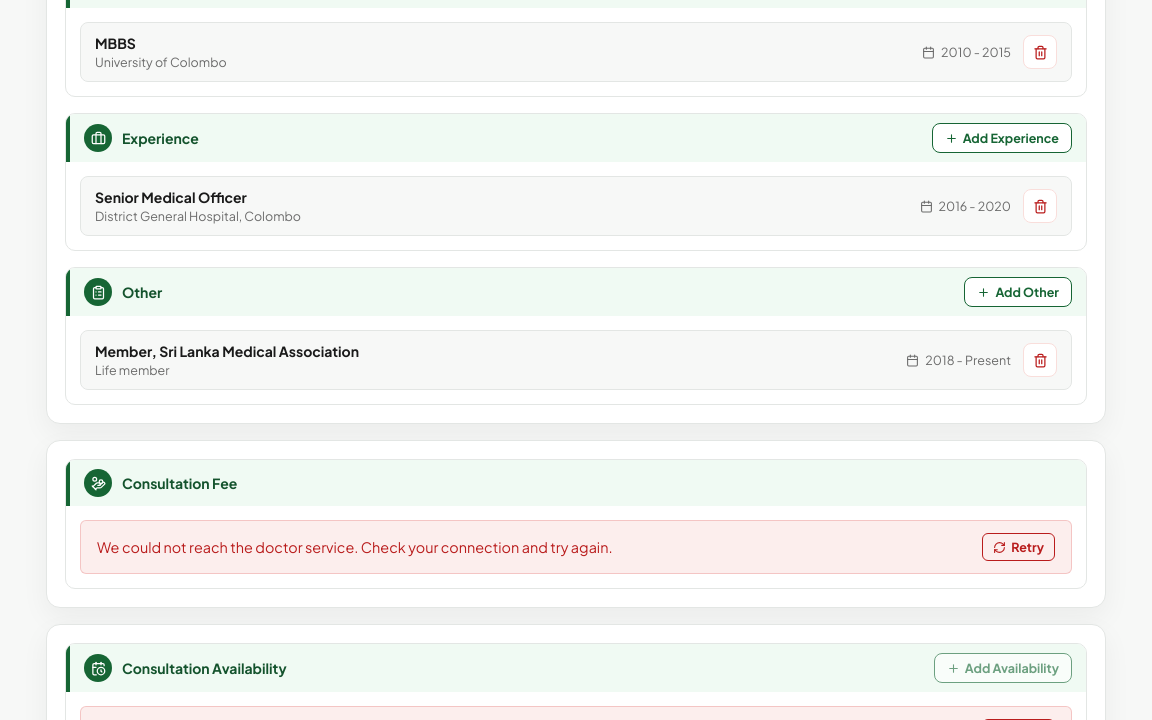
DoctorProfilePage › deletes an Other entry from view mode after confirmation
(page scrolled)
Check: the text "Member, Sri Lanka Medical Association" is shown, box top-left (95, 342), bottom-right (359, 360)
Click the button named "Remove Other 1" at (1040, 360), box top-left (1023, 343), bottom-right (1057, 377)
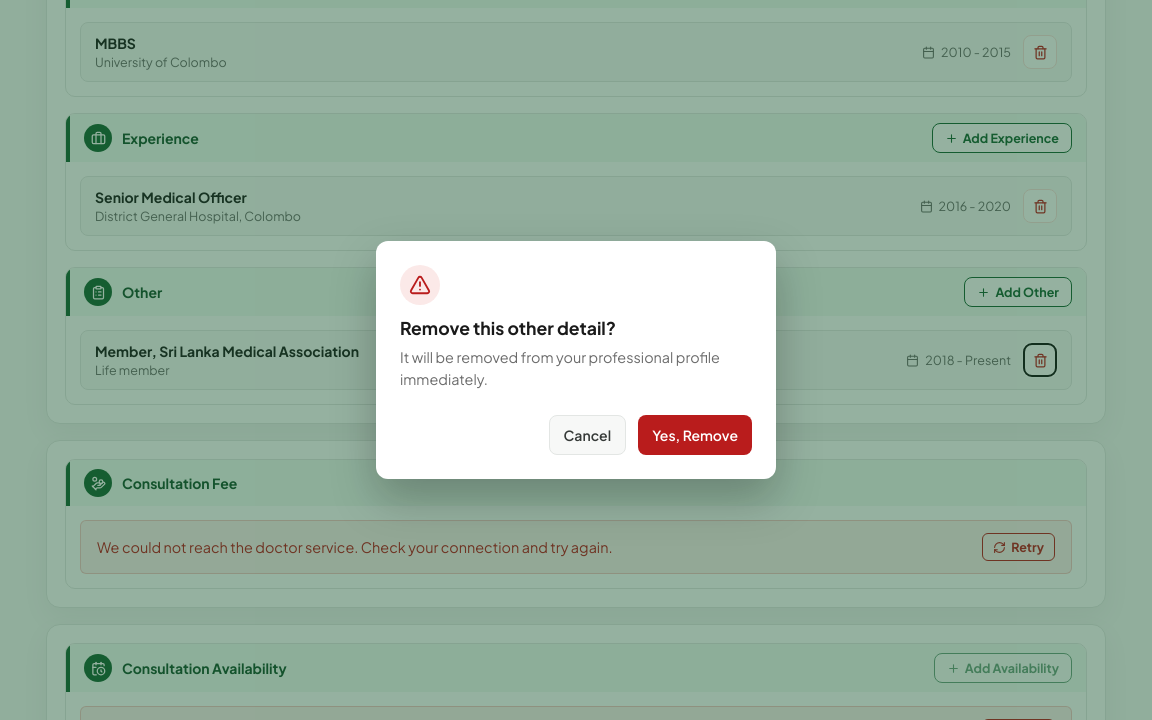
Click the button "Yes, Remove" at (695, 435), box top-left (638, 415), bottom-right (752, 455)
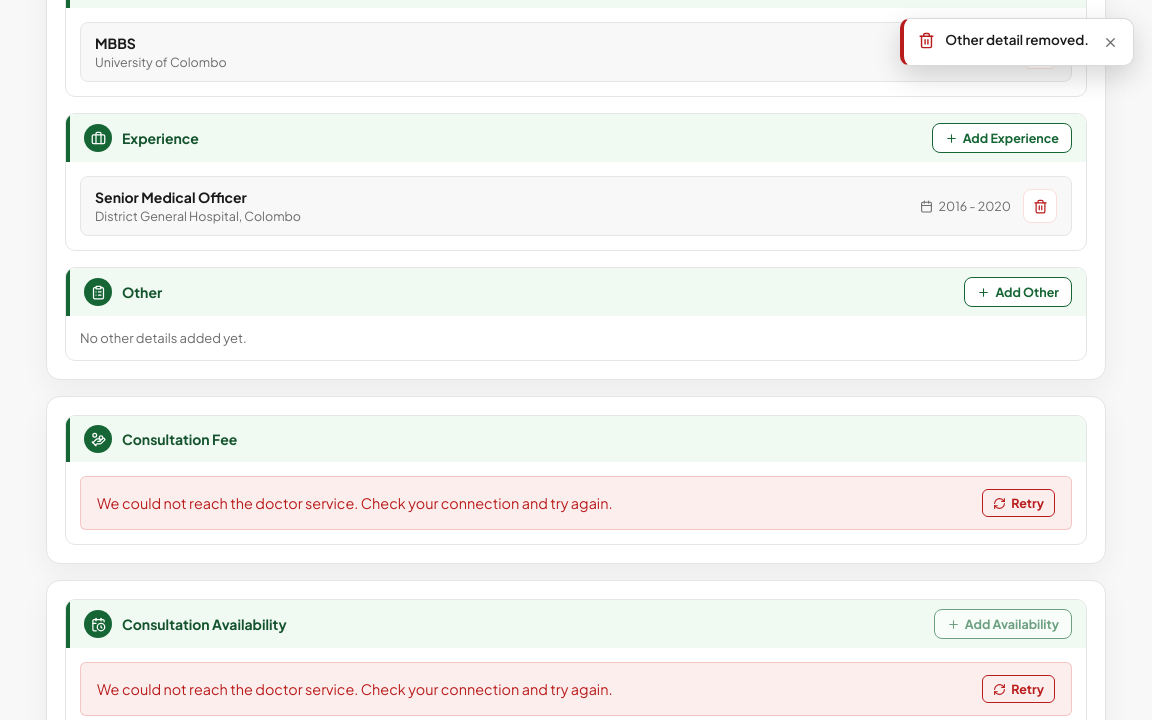
Check: the text "Other detail removed." is shown, box top-left (945, 31), bottom-right (1089, 48)
